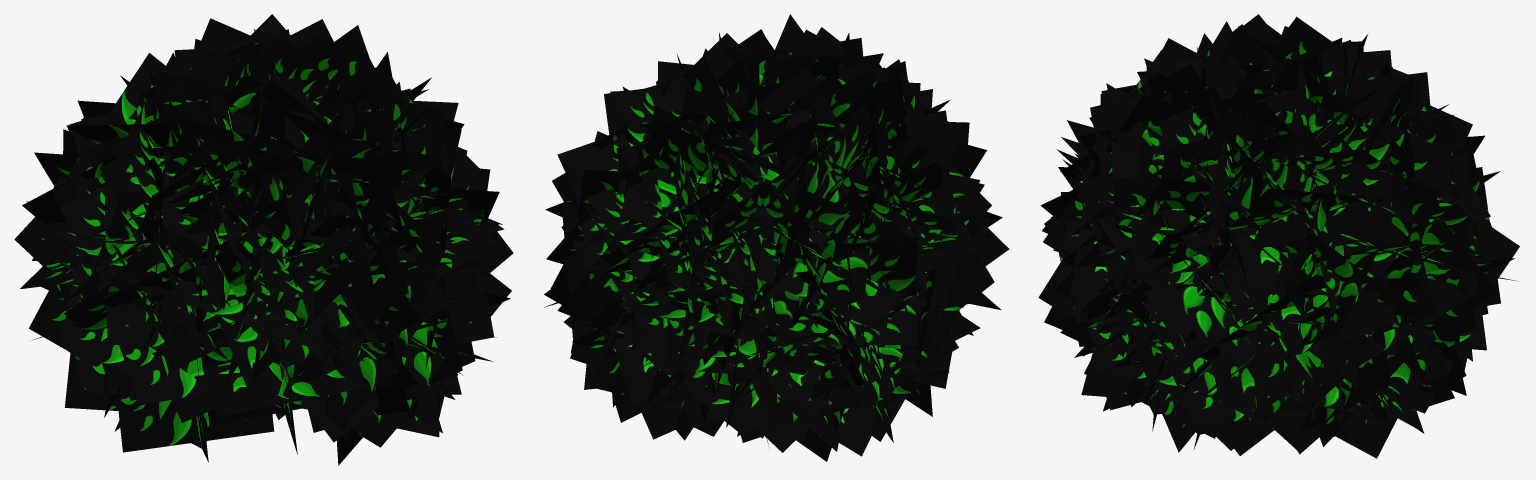
Rendered from Puska.fbx.
3 views of the same model, side by side, from view 1: azimuth 30°, elevation 25°; view 2: azimuth 150°, elevation 25°; view 3: azimuth 270°, elevation 25° (orthographic). The views are drawn at different scales.
Parts seen in each view (by area): view 1: Bush; view 2: Bush; view 3: Bush.
Boxes of the visible parts, left/top/right/bottom form: Bush: left=14, top=14, right=513, bottom=465; Bush: left=544, top=14, right=1009, bottom=461; Bush: left=1038, top=14, right=1519, bottom=458.
Bounding box in the file's own units: 504 × 499 × 412.
